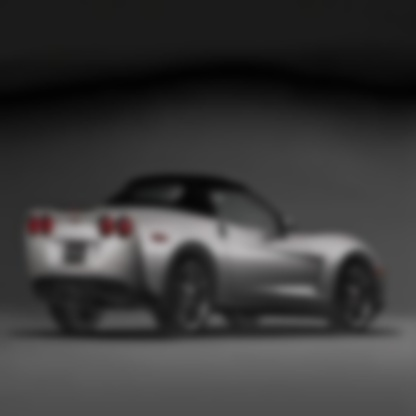Vehicle: (26, 176, 386, 338)
